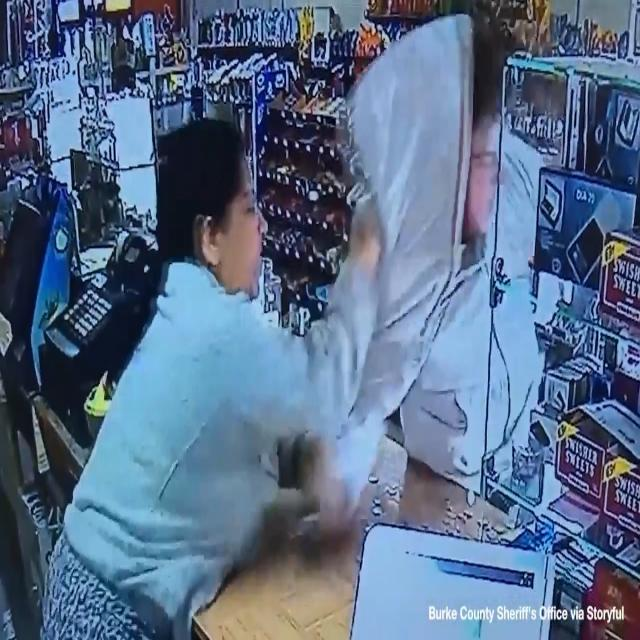fight: (22, 65, 500, 488)
